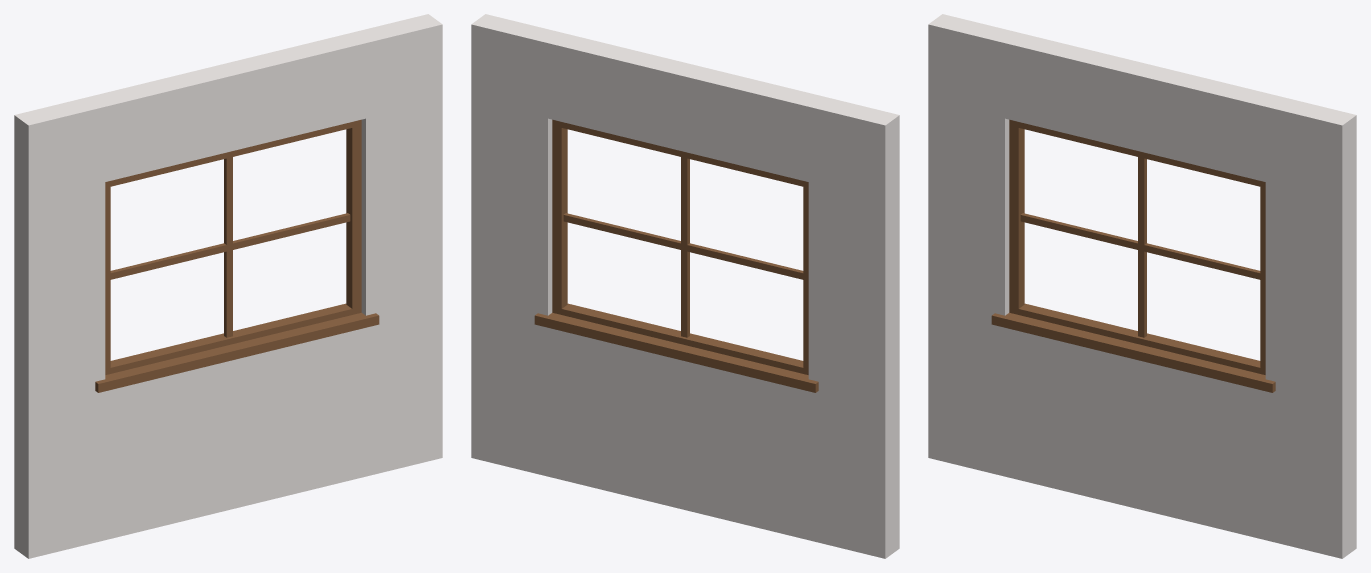
File: Wall_14.fbx
The picture shows the model from 3 angles, left to right: view 1: azimuth 30°, elevation 25°; view 2: azimuth 150°, elevation 25°; view 3: azimuth 330°, elevation 25°; orthographic projection.
Visible parts, largest first — view 1: Wall_14; view 2: Wall_14; view 3: Wall_14.
Part boxes in pixels (x1,y1,x2,y2): Wall_14: (14,14,442,558); Wall_14: (471,14,899,558); Wall_14: (928,14,1356,558).
Size of the model in its own units: 259 by 259 by 22.34.
